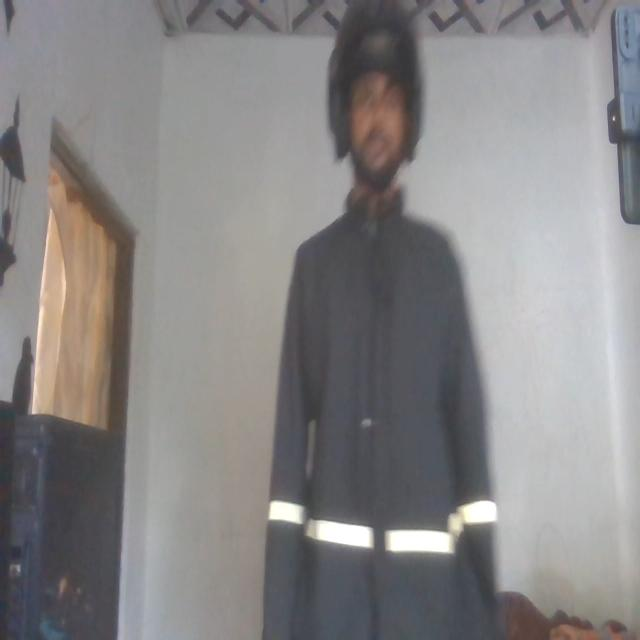Helmet_Wearer: (321, 0, 429, 212)
Jacket_Wearer: (274, 208, 496, 640)
Person: (272, 0, 502, 640)
